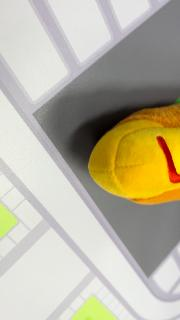hotdog: (87, 102, 179, 206)
